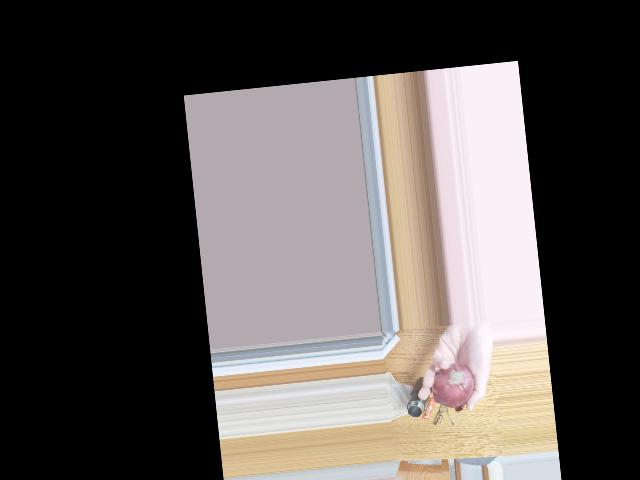onion: (436, 356, 477, 406)
